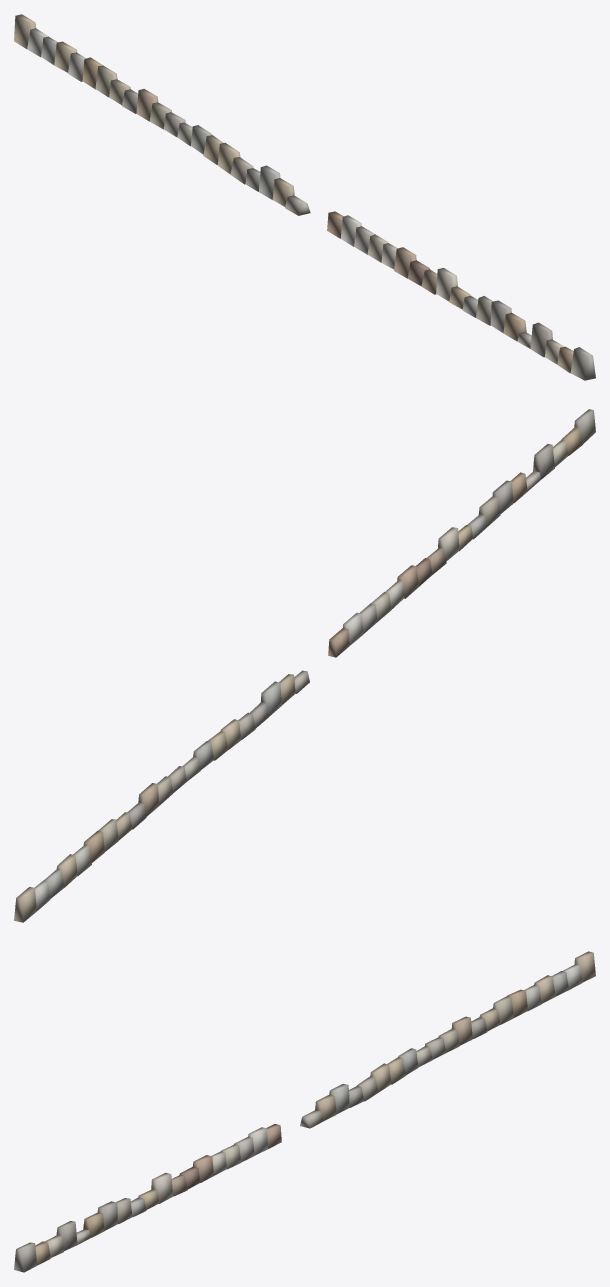
File: farm_9_10_far.glb
The picture shows the model from 3 angles, top to bottom: view 1: azimuth 30°, elevation 25°; view 2: azimuth 150°, elevation 25°; view 3: azimuth 330°, elevation 25°; orthographic projection. The views are drawn at different scales.
Visible parts, largest first — view 1: geometry_0; view 2: geometry_0; view 3: geometry_0.
Part boxes in pixels (left/top/right/bottom): geometry_0: left=14, top=14, right=595, bottom=380; geometry_0: left=14, top=409, right=595, bottom=922; geometry_0: left=14, top=951, right=595, bottom=1272.
Size of the model in its own units: 2.52 by 7.97 by 66.42.
